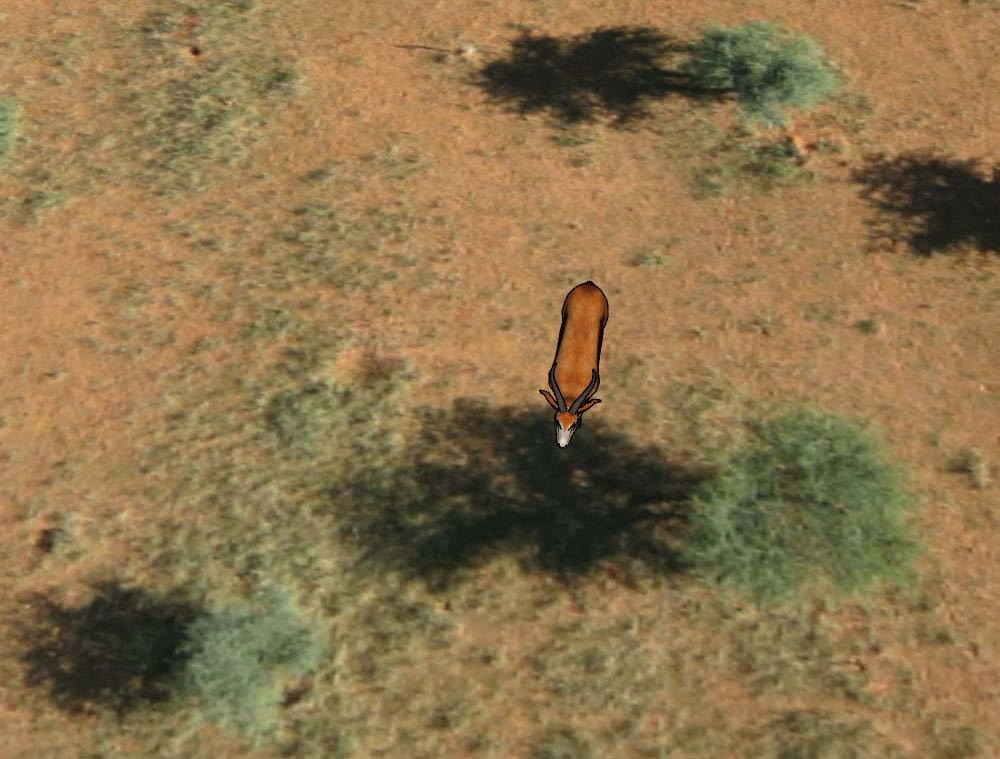springbok: (540, 275, 616, 448)
